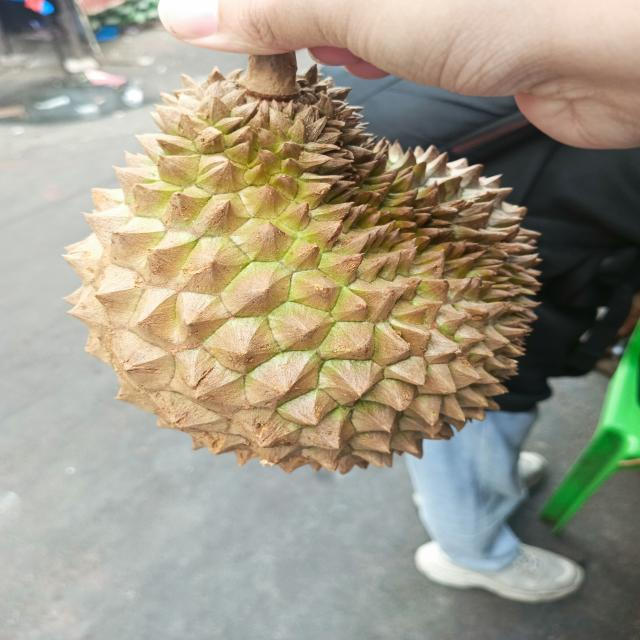mature: (59, 57, 542, 472)
